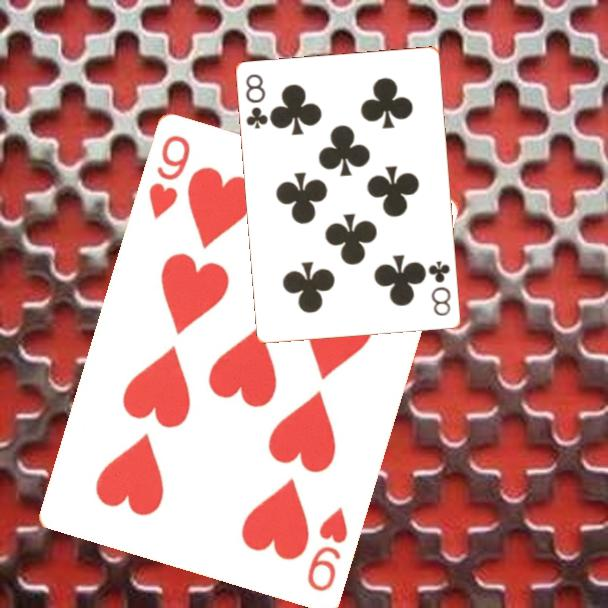c08: (425, 257, 454, 319), (242, 71, 271, 132)
h09: (145, 132, 194, 223), (304, 504, 351, 595)
